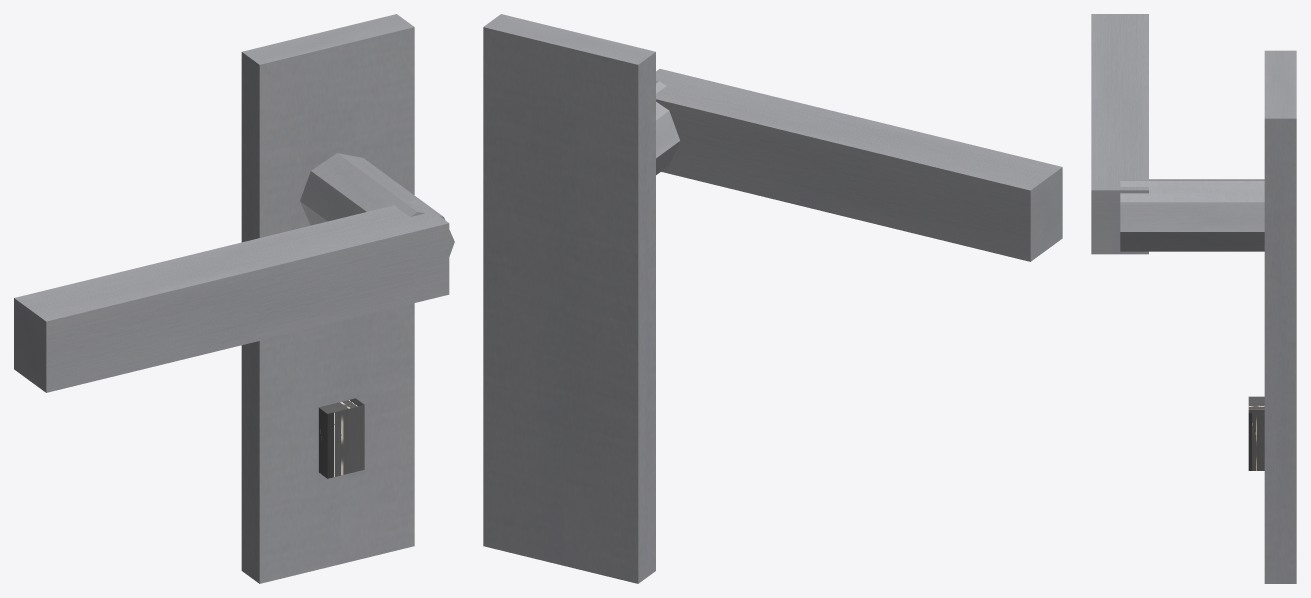
Rendered from Door_Handle.fbx.
The picture shows the model from 3 angles, left to right: view 1: azimuth 30°, elevation 25°; view 2: azimuth 150°, elevation 25°; view 3: azimuth 270°, elevation 25°; orthographic projection. The views are drawn at different scales.
Visible parts, largest first — view 1: Door_Handle; view 2: Door_Handle; view 3: Door_Handle.
Part boxes in pixels (x1=…): Door_Handle: x1=14, y1=14, x2=454, y2=583; Door_Handle: x1=483, y1=14, x2=1062, y2=583; Door_Handle: x1=1091, y1=14, x2=1296, y2=583.
Bounding box in the file's own units: 0.15 × 0.16 × 0.064.
